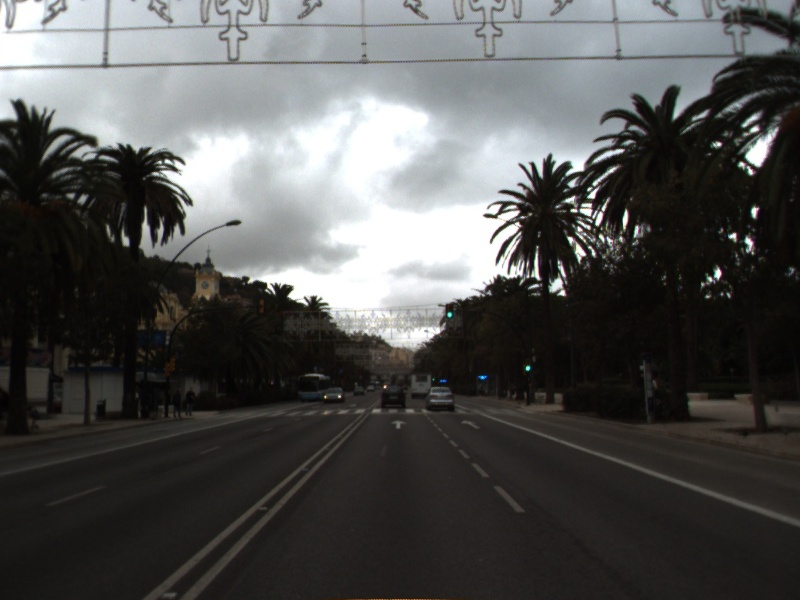STRAIGHT: (458, 417, 483, 431), (389, 418, 408, 431)
